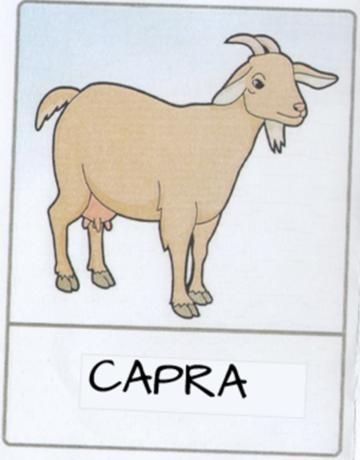capra: (2, 5, 360, 460)
